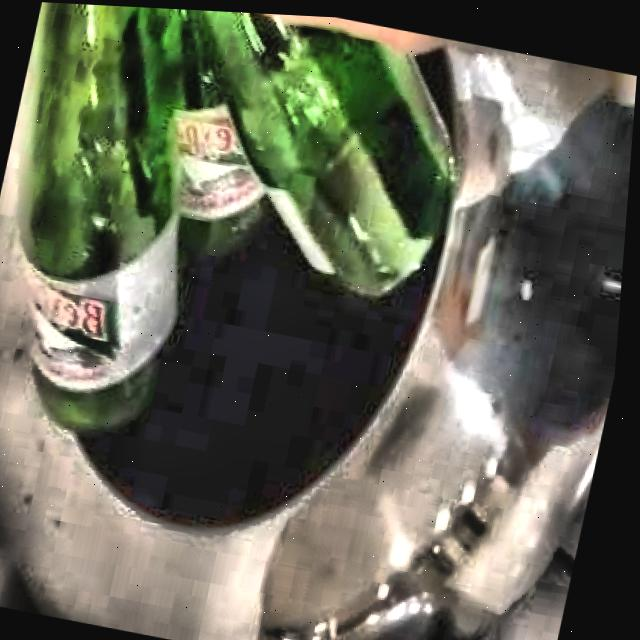glass: (27, 2, 457, 427)
